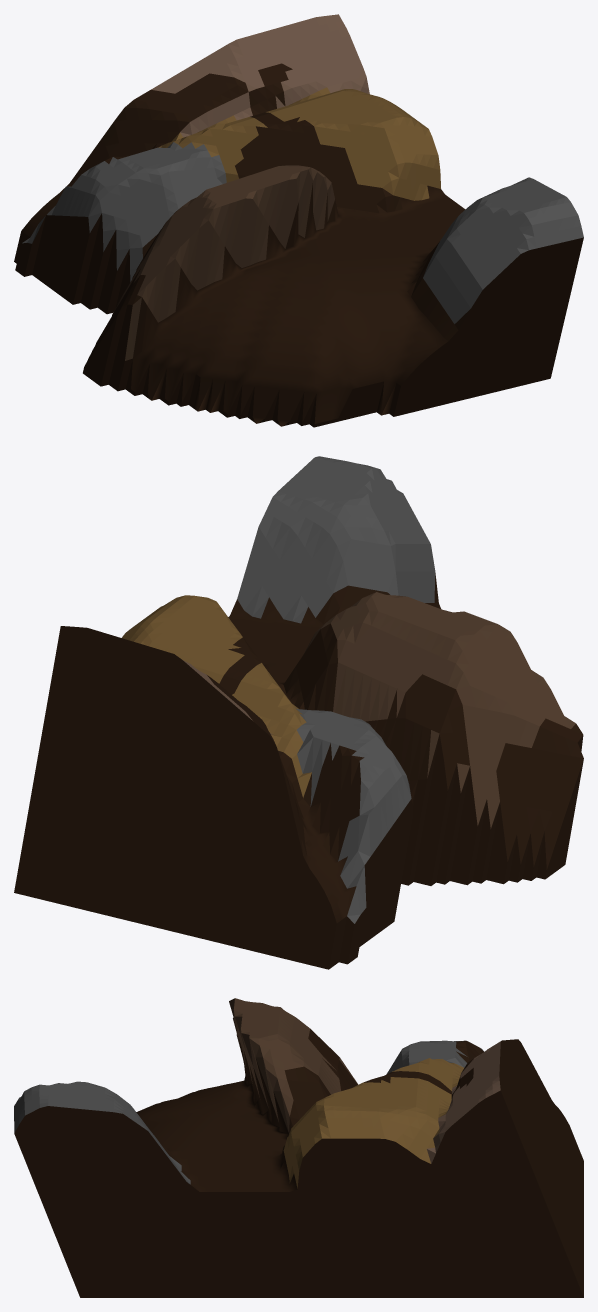
Rendered from ixm_cover_229.glb.
3 views of the same model, one above another, from view 1: azimuth 30°, elevation 25°; view 2: azimuth 150°, elevation 25°; view 3: azimuth 270°, elevation 25° (orthographic). The views are drawn at different scales.
Visible parts, largest first — view 1: ixm_cover_229; view 2: ixm_cover_229; view 3: ixm_cover_229.
Boxes of the visible parts, <box> form: ixm_cover_229: <box>14,14,583,427</box>; ixm_cover_229: <box>14,456,583,969</box>; ixm_cover_229: <box>14,998,583,1297</box>.
Size of the model in its own units: 22 by 12.93 by 31.68.
